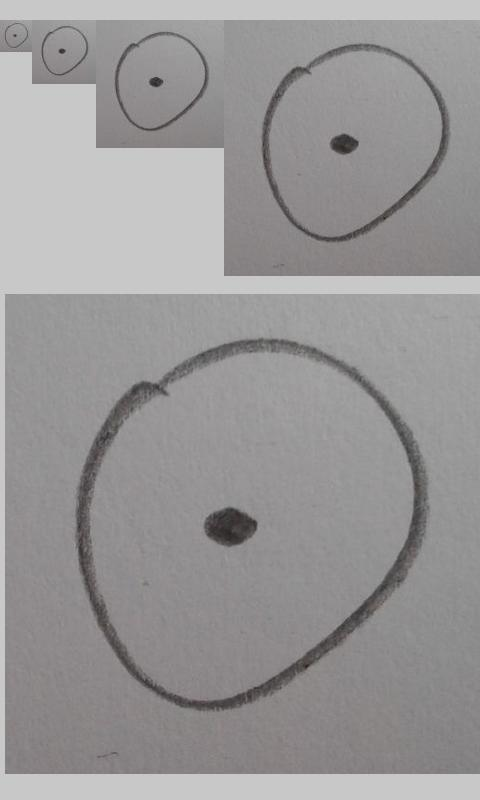radio_button: (70, 334, 430, 713), (259, 40, 451, 246), (112, 30, 208, 132), (40, 25, 89, 77), (4, 22, 29, 49)
